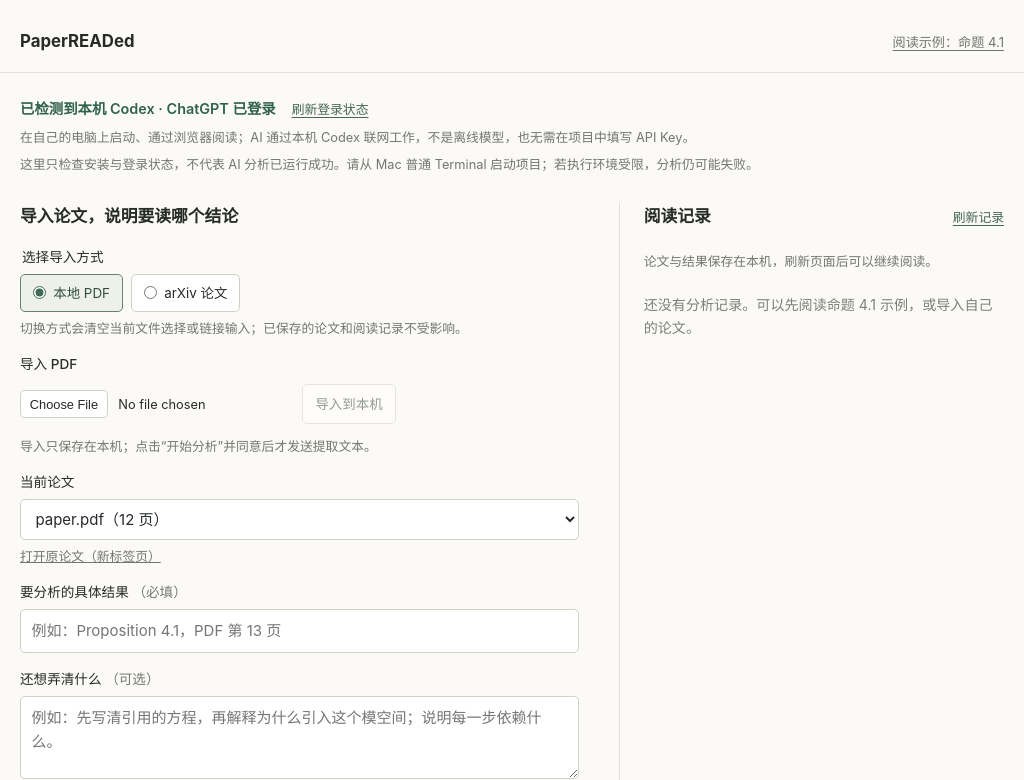
Test: LocalReader › arXiv 下载失败保留输入和错误，不会回退到旧论文，取消输入后也要重新同意
Expected: the text "已检测到本机 Codex · ChatGPT 已登录" is shown, [20,97,276,120]
In the field labelled "要分析的具体结果 （必填）": (299,631) [20,609,579,653], type "Theorem 1"
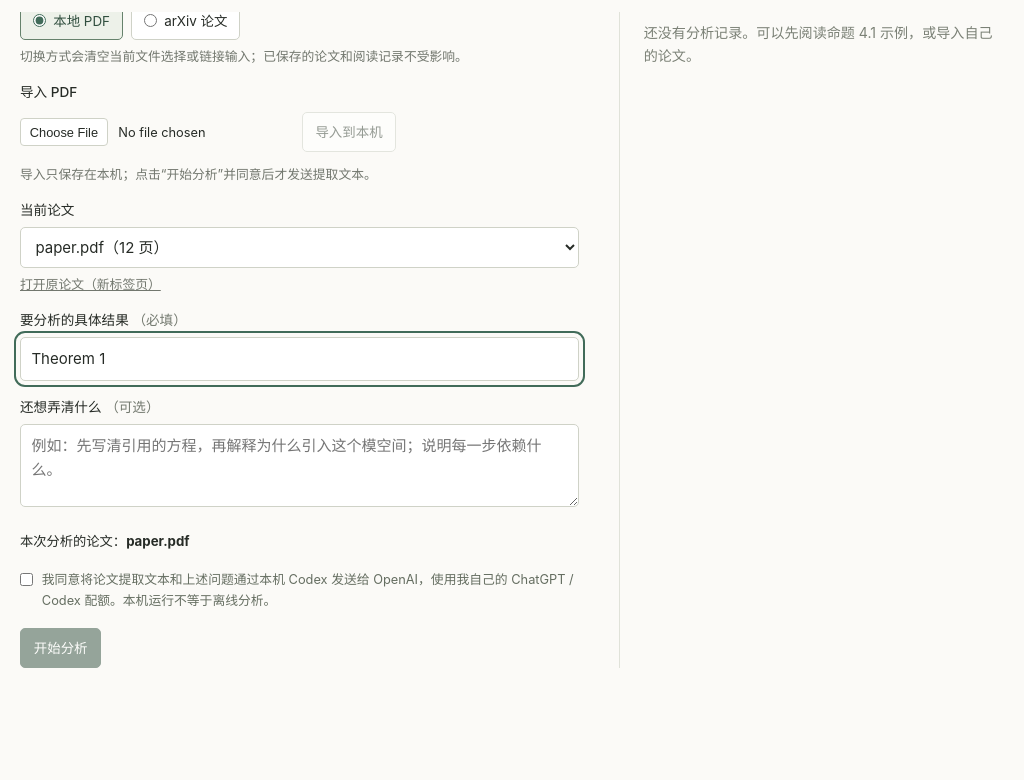
Click the checkbox: (26,579) [20,573,33,586]
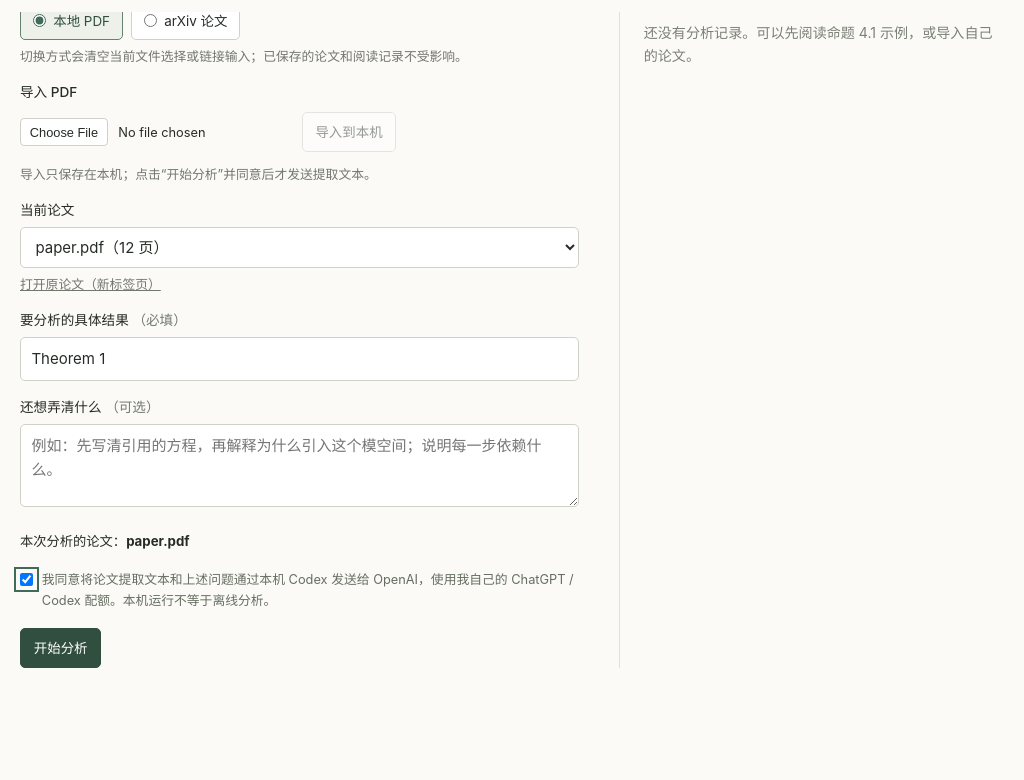
Click the radio button labelled "arXiv 论文": (151,21) [144,14,157,27]
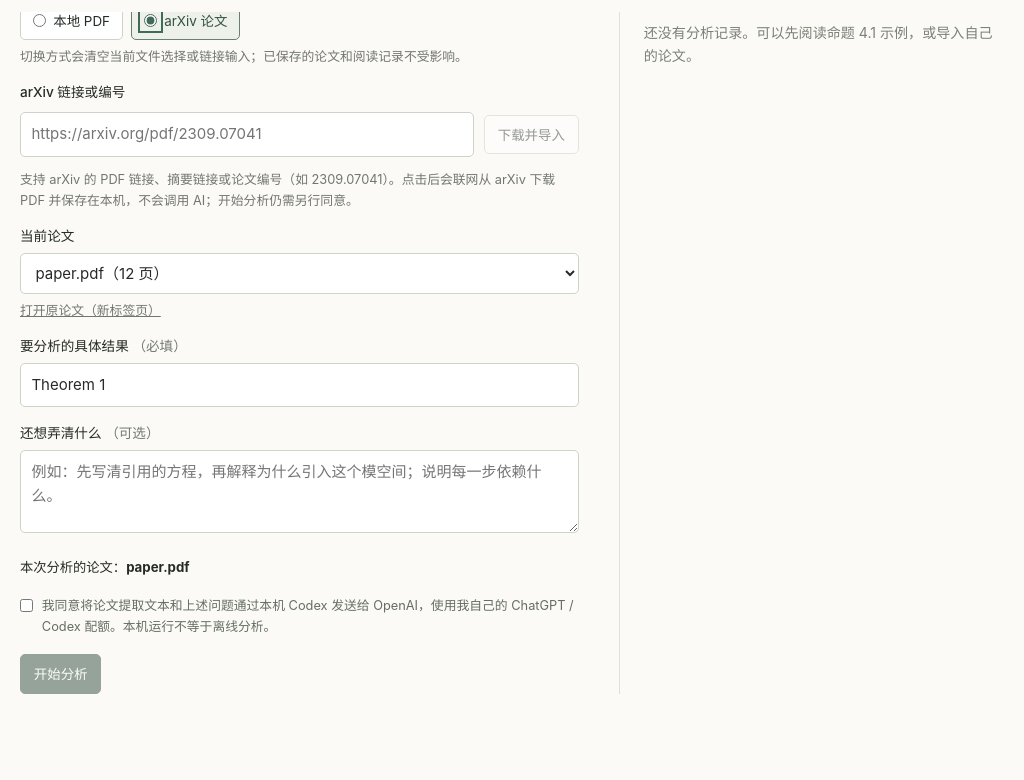
In the field labelled "arXiv 链接或编号": (247,135) [20,112,474,157], type "2309.07041"
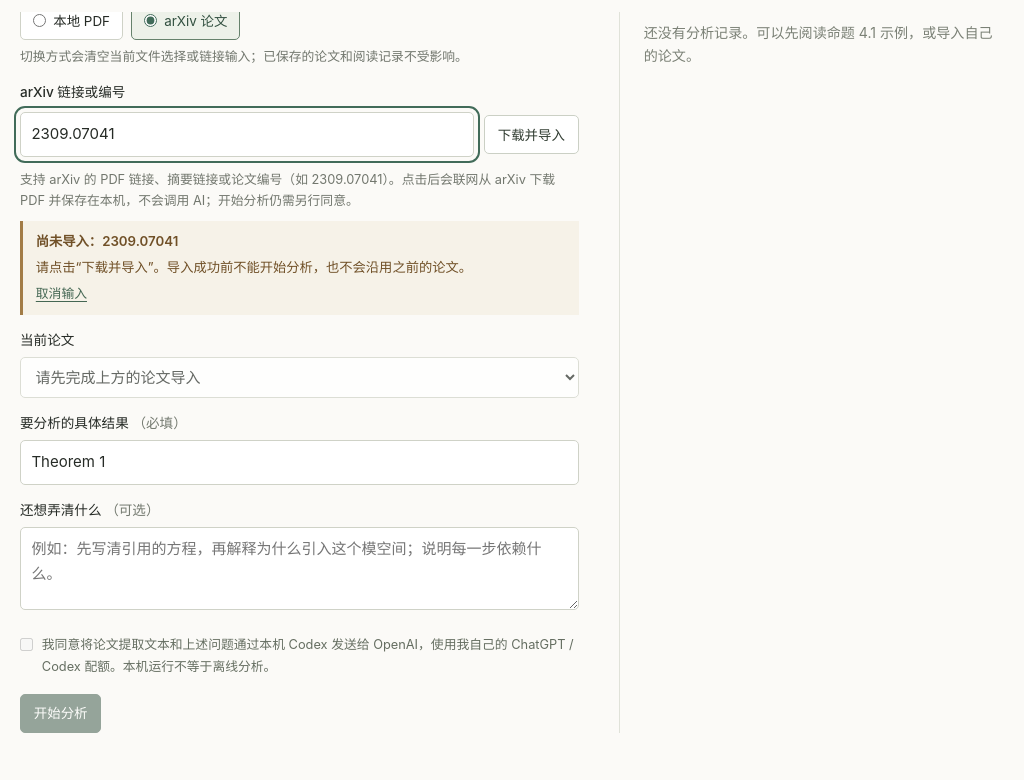
Click the button "下载并导入": (531,135) [484,115,579,154]
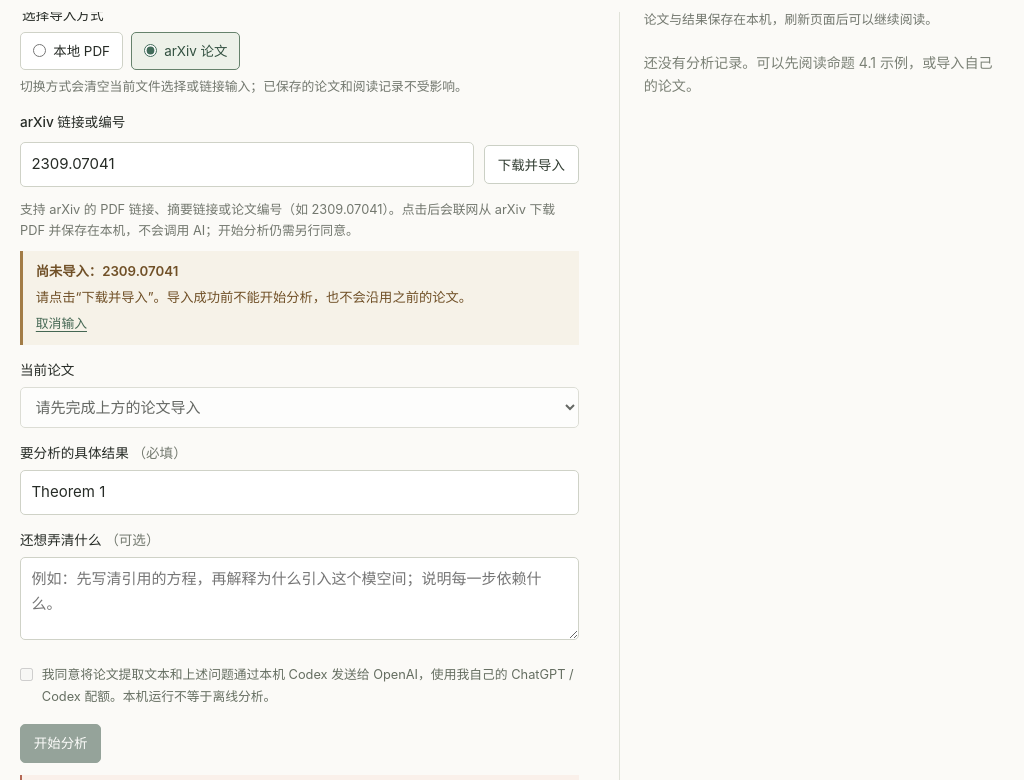
Result: the dropdown labelled "当前论文" shows "请先完成上方的论文导入" at [20,388,579,428]
Result: the checkbox is disabled at [20,668,33,681]
Result: the button "开始分析" is disabled at [20,724,101,763]
Submit the form named "导入论文并指定结论"
Click the button "取消输入": (61,323) [36,313,87,334]
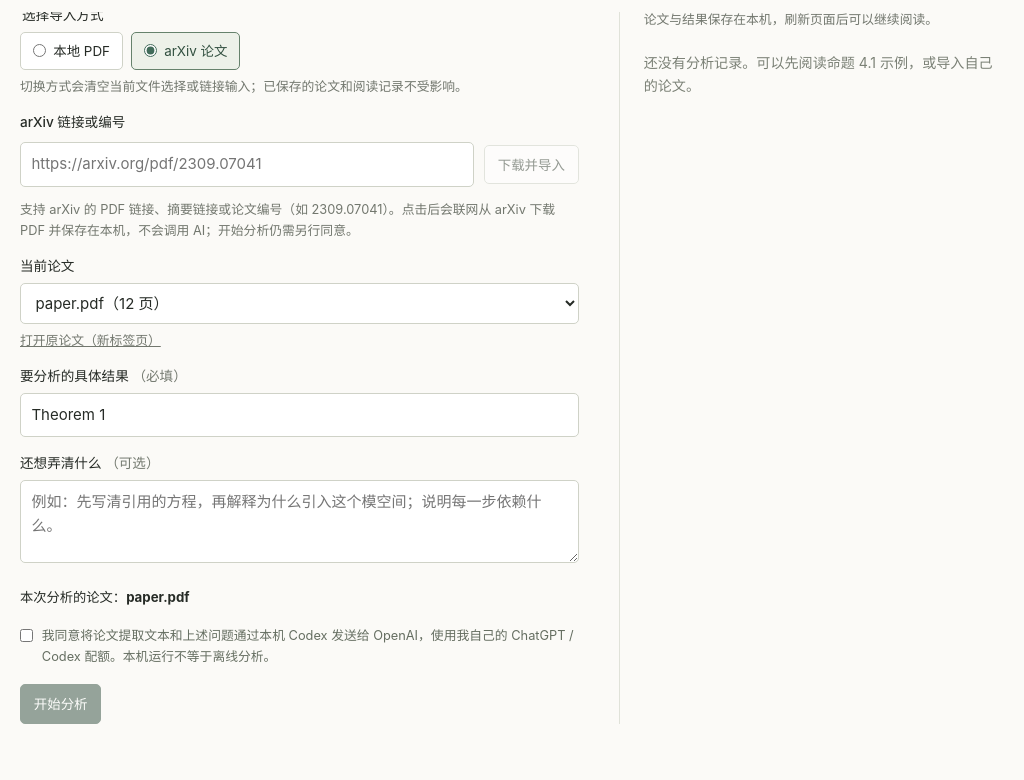
Result: the field labelled "arXiv 链接或编号" is empty at [20,142,474,187]
Result: the dropdown labelled "当前论文" shows "paper.pdf（12 页）" at [20,283,579,324]
Result: the checkbox is enabled at [20,629,33,642]
